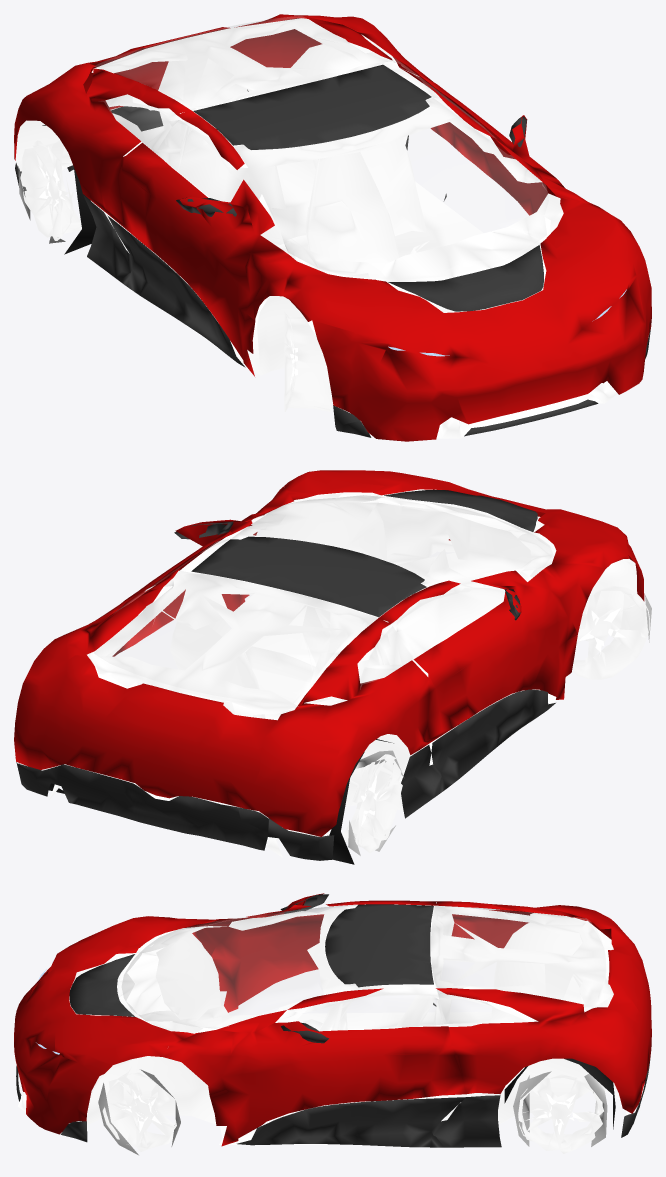
The model's file is car-lo.glb.
3 renders of one model, top to bottom at view 1: azimuth 30°, elevation 25°; view 2: azimuth 150°, elevation 25°; view 3: azimuth 270°, elevation 25°, orthographic. The views are drawn at different scales.
Parts seen in each view (by area): view 1: BodyRearPanelsColor1, BodyWindshieldGasket, BodyWindshield, BodyRoofPanel, WheelFrontLRim, object 7; view 2: BodyRearPanelsColor1, BodyWindshieldGasket, BodyWindshield, BodyRoofPanel, WheelFrontLRim, object 7; view 3: BodyRearPanelsColor1, BodyWindshieldGasket, BodyWindshield, BodyRoofPanel, WheelFrontLRim, object 7.
Part boxes in pixels (<box>): BodyRearPanelsColor1: <box>14,14,651,441</box>; BodyWindshieldGasket: <box>15,18,648,438</box>; BodyWindshield: <box>95,16,548,279</box>; BodyRoofPanel: <box>15,64,650,437</box>; WheelFrontLRim: <box>20,140,331,411</box>; object 7: <box>18,125,408,254</box>; BodyRearPanelsColor1: <box>14,470,644,836</box>; BodyWindshieldGasket: <box>19,489,637,857</box>; BodyWindshield: <box>94,495,552,702</box>; BodyRoofPanel: <box>16,489,555,860</box>; WheelFrontLRim: <box>260,530,649,852</box>; object 7: <box>19,595,651,864</box>; BodyRearPanelsColor1: <box>14,893,651,1146</box>; BodyWindshieldGasket: <box>18,902,644,1144</box>; BodyWindshield: <box>122,905,605,1028</box>; BodyRoofPanel: <box>16,894,651,1147</box>; WheelFrontLRim: <box>102,1058,603,1153</box>; object 7: <box>98,1058,615,1155</box>.
Bounding box in the file's own units: 2.52 × 1.15 × 4.35.
